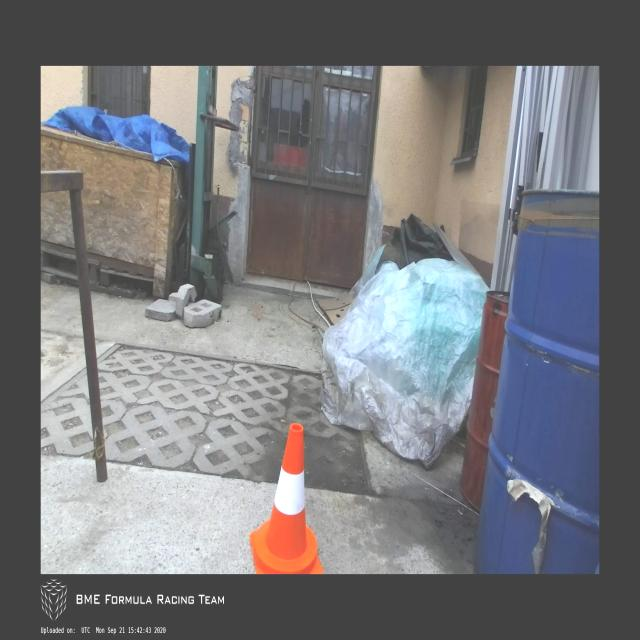orange_cone: (250, 424, 324, 574)
